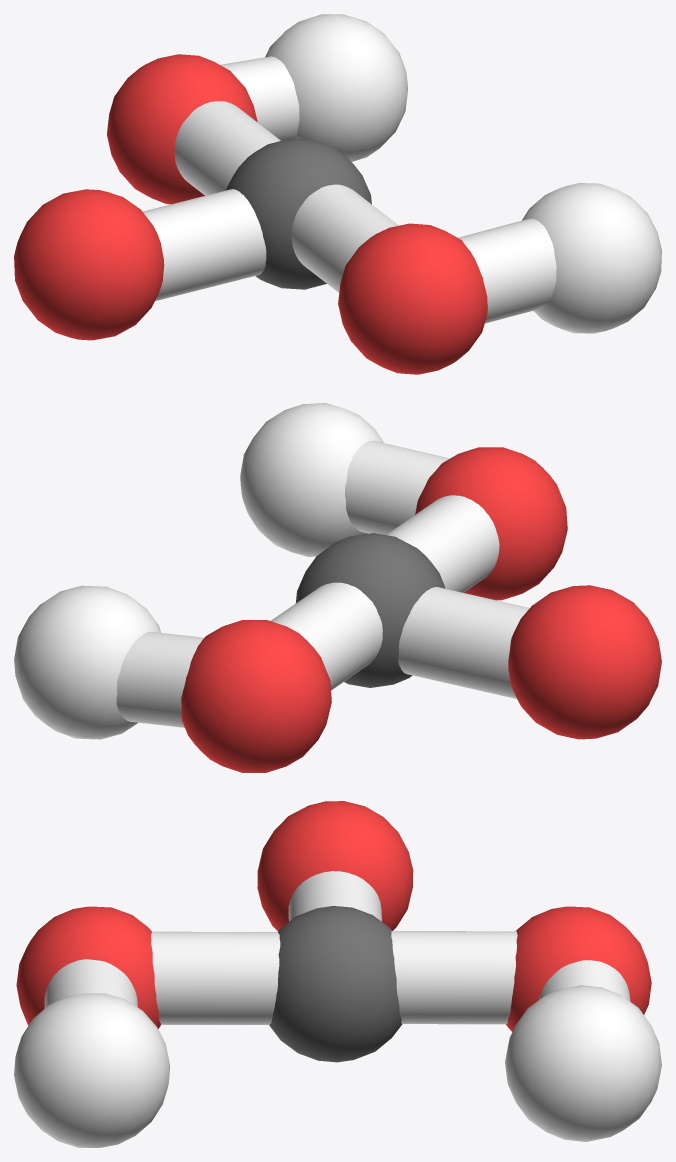
3 renders of one model, top to bottom at view 1: azimuth 30°, elevation 25°; view 2: azimuth 150°, elevation 25°; view 3: azimuth 270°, elevation 25°, orthographic. The views are drawn at different scales.
Parts seen in each view (by area): view 1: Oxygen.001_24.001; view 2: Oxygen.001_24.001; view 3: Oxygen.001_24.001.
Part boxes in pixels (x1=…): Oxygen.001_24.001: x1=14, y1=14, x2=661, y2=374; Oxygen.001_24.001: x1=14, y1=403, x2=661, y2=772; Oxygen.001_24.001: x1=14, y1=801, x2=661, y2=1147.
Bounding box in the file's own units: 2.45 × 0.6335 × 2.61.
